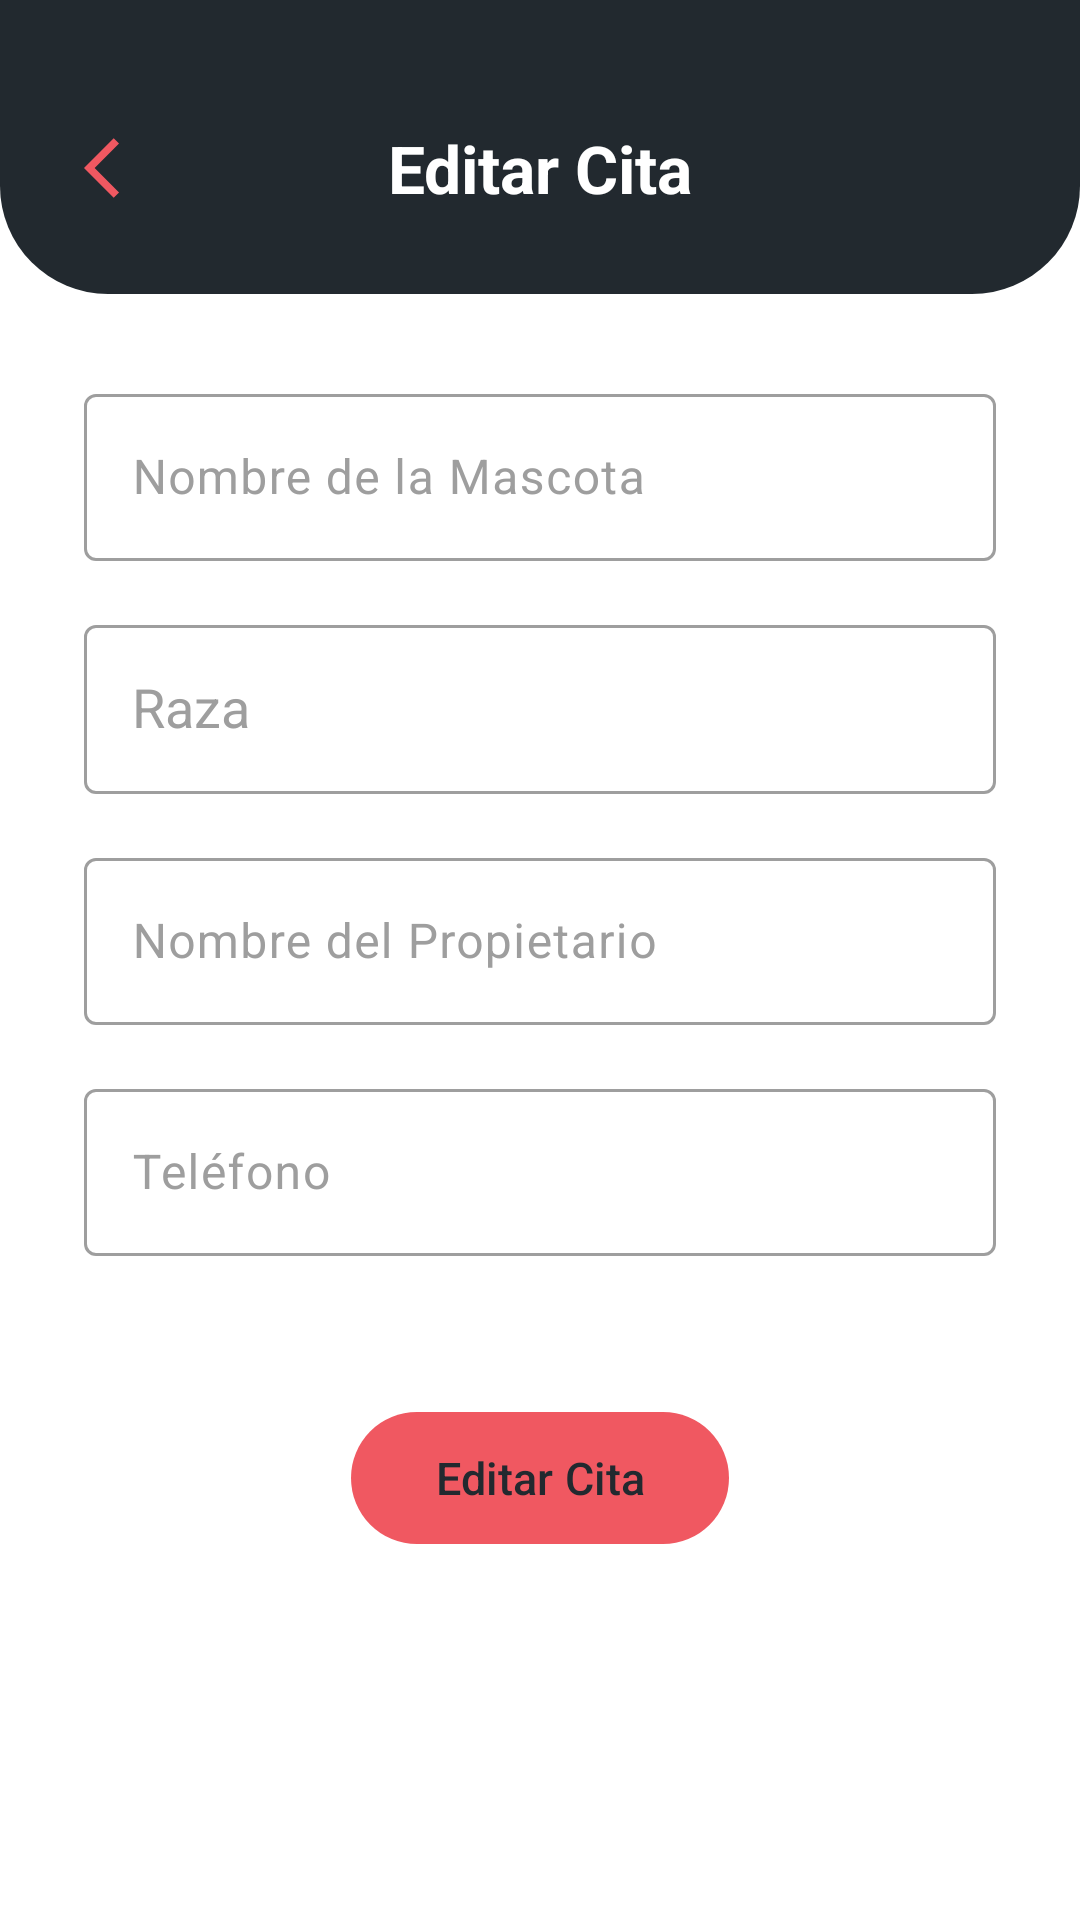

Where to tap for icons on this 1080w x 1920h app screen, as [x,y]:
Volver: [101,168]
